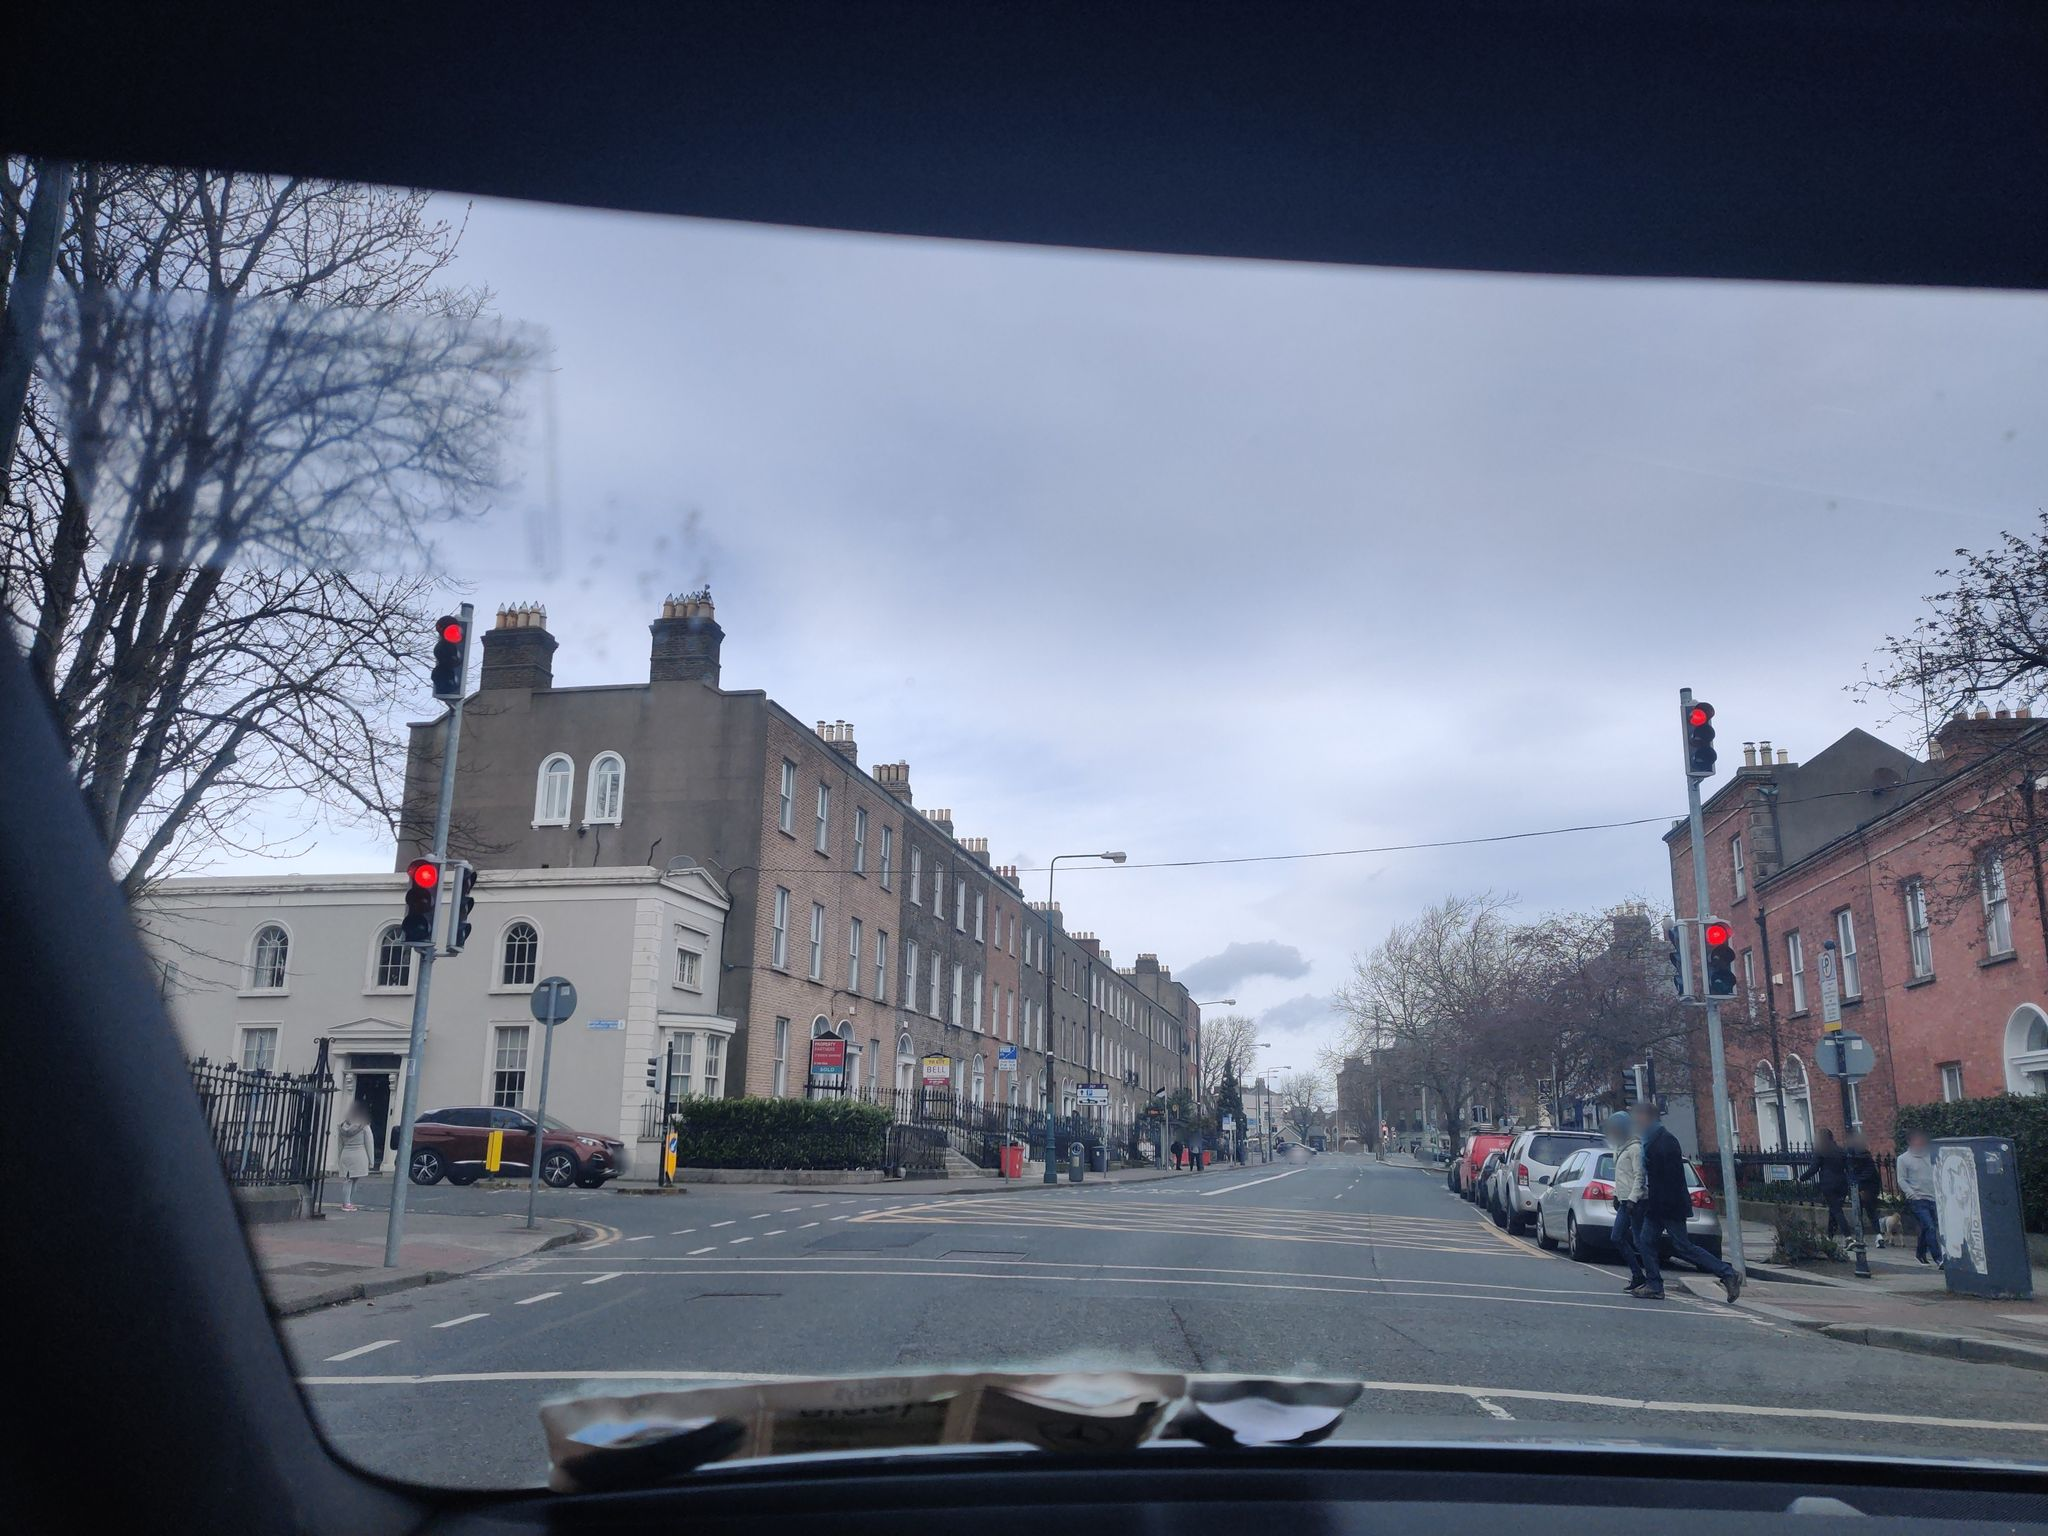property sign: (798, 1025, 858, 1079), (921, 1049, 953, 1091)
